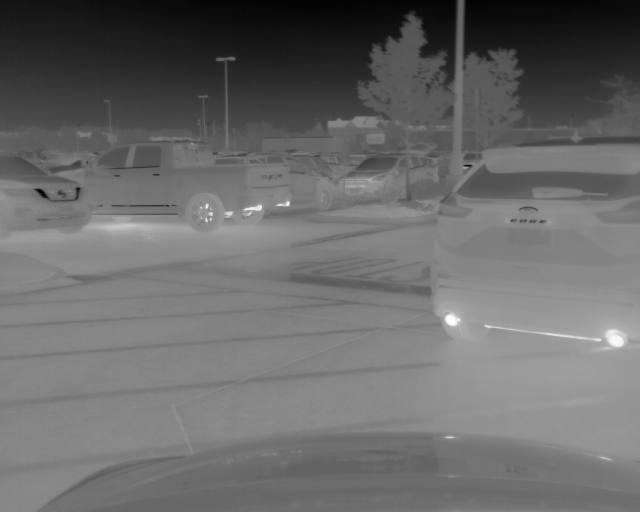car: (427, 137, 640, 354), (75, 140, 294, 230), (210, 153, 340, 217), (2, 154, 85, 235), (344, 152, 443, 204)
